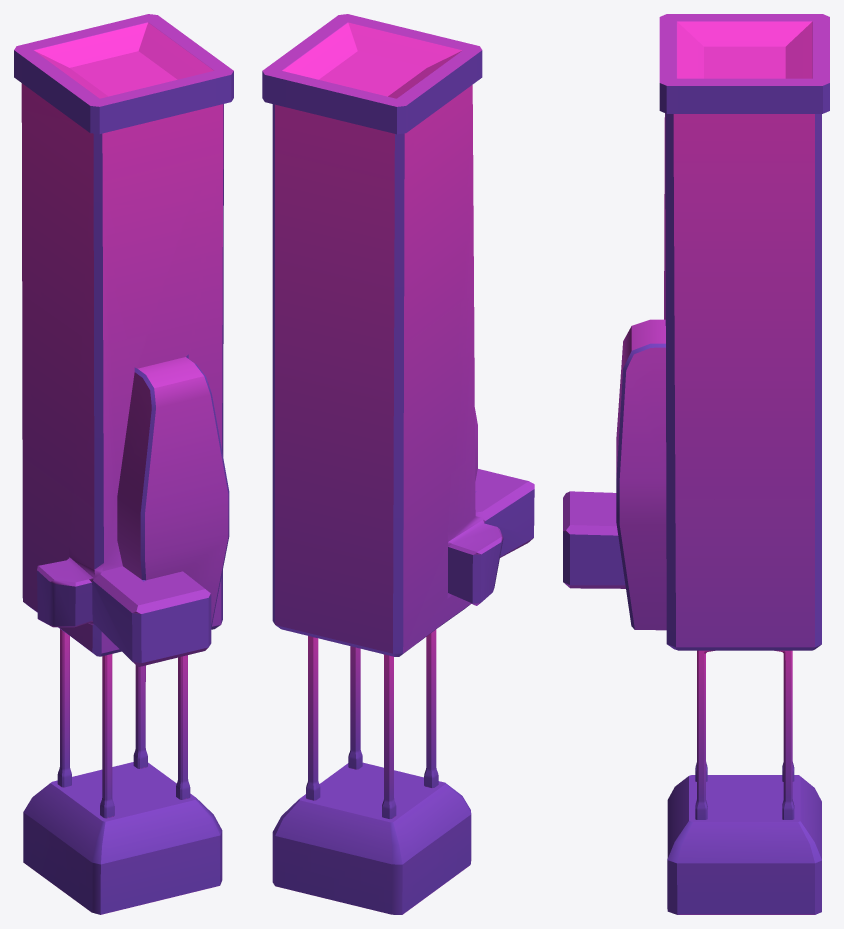
Rendered from addweird.fbx.
3 views of the same model, side by side, from view 1: azimuth 30°, elevation 25°; view 2: azimuth 150°, elevation 25°; view 3: azimuth 270°, elevation 25° (orthographic). The views are drawn at different scales.
Parts seen in each view (by area): view 1: building_39, s_32, s_28, s_31, s_30; view 2: building_39, s_30, s_32, s_28, s_31; view 3: building_39, s_30, s_31.
Boxes of the visible parts, x1=… form: building_39: x1=14, y1=14, x2=233, y2=914; s_32: x1=100, y1=654, x2=114, y2=818; s_28: x1=57, y1=629, x2=71, y2=787; s_31: x1=176, y1=655, x2=190, y2=799; s_30: x1=133, y1=665, x2=147, y2=768; building_39: x1=262, y1=14, x2=534, y2=914; s_30: x1=306, y1=636, x2=320, y2=800; s_32: x1=424, y1=629, x2=438, y2=788; s_28: x1=382, y1=654, x2=396, y2=819; s_31: x1=348, y1=646, x2=362, y2=769; building_39: x1=563, y1=14, x2=829, y2=914; s_30: x1=774, y1=650, x2=794, y2=819; s_31: x1=695, y1=650, x2=714, y2=819.
Size of the model in its own units: 66.34 by 297 by 86.25.
